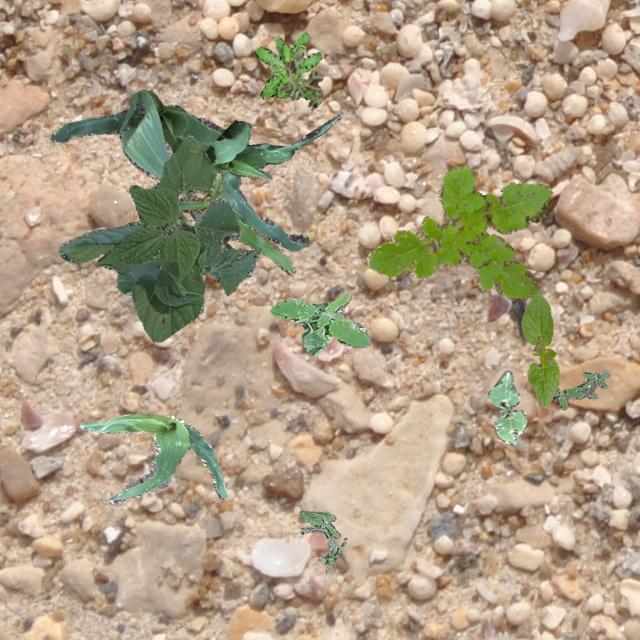crop: (49, 88, 308, 250), (58, 134, 260, 340), (79, 412, 225, 503), (176, 170, 294, 274), (204, 114, 340, 178), (520, 292, 558, 408), (486, 370, 526, 444)
weed: (366, 165, 550, 298), (270, 292, 370, 354), (253, 32, 320, 98), (298, 509, 344, 572), (278, 46, 322, 110), (550, 369, 608, 408)
